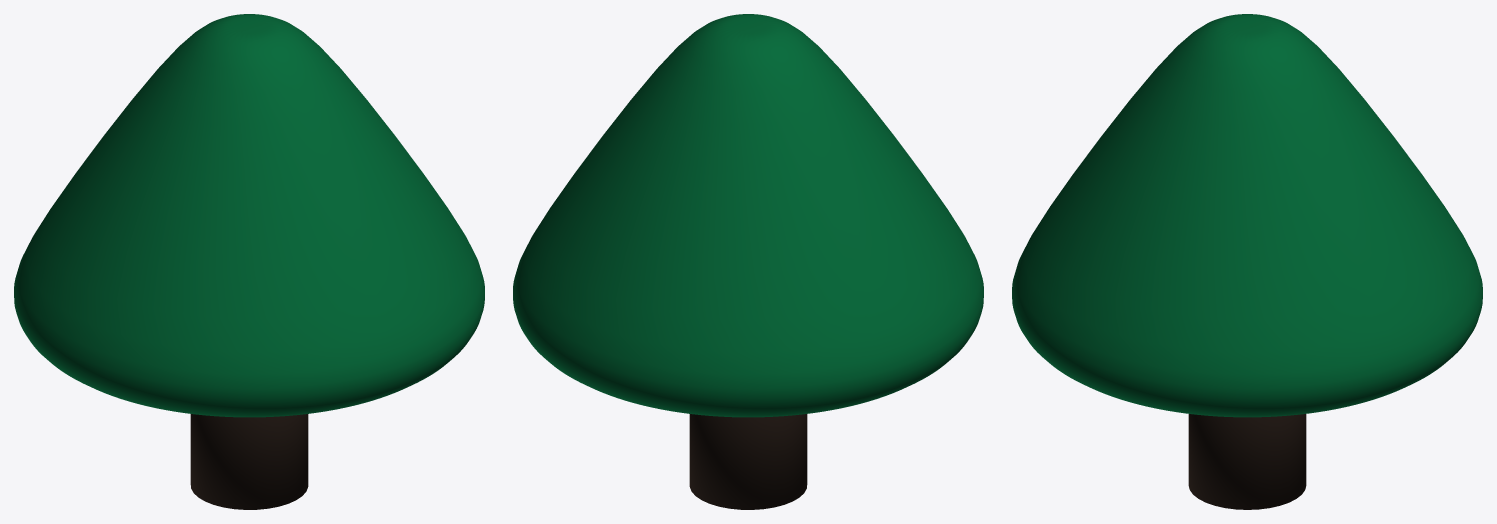
3 views of the same model, side by side, from view 1: azimuth 30°, elevation 25°; view 2: azimuth 150°, elevation 25°; view 3: azimuth 270°, elevation 25° (orthographic).
Parts seen in each view (by area): view 1: Sphere.026, wood.002; view 2: Sphere.026, wood.002; view 3: Sphere.026, wood.002.
Part boxes in pixels (x1,y1,x2,y2): Sphere.026: [14, 14, 484, 417]; wood.002: [190, 414, 308, 509]; Sphere.026: [513, 14, 983, 417]; wood.002: [689, 414, 807, 509]; Sphere.026: [1012, 14, 1482, 417]; wood.002: [1188, 414, 1306, 509].
Bounding box in the file's own units: 3.37 × 3.63 × 3.37.
